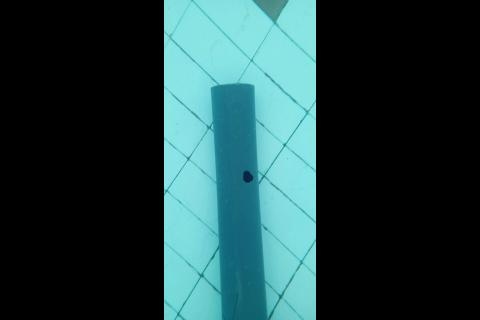kebocoran: (241, 168, 254, 183)
keretakan: (229, 290, 238, 320)
